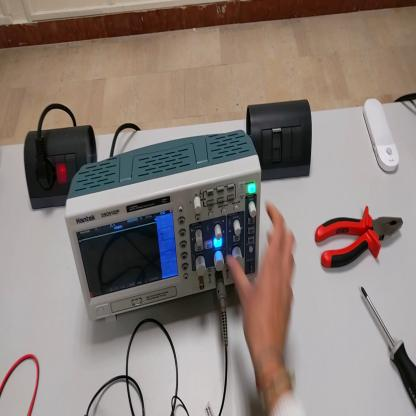hand: (228, 199, 298, 372)
oscilloscope: (65, 129, 262, 324)
pliers: (315, 207, 406, 271)
screwdriver-: (362, 287, 416, 408)
socket: (23, 129, 98, 212)
